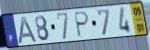4: (117, 5, 132, 36)
7: (96, 7, 112, 37), (55, 11, 70, 41)
8: (35, 15, 50, 42)
A: (17, 15, 39, 45)
P: (74, 10, 91, 39)
